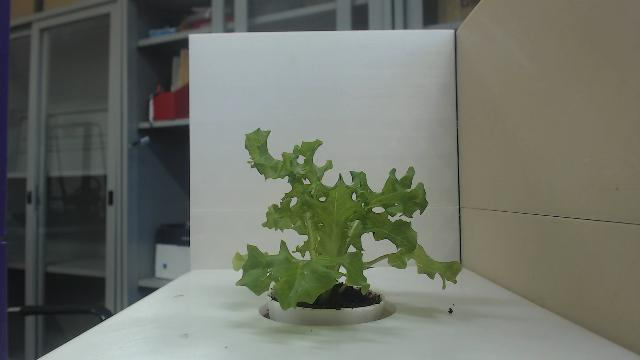Vegetative Stage: (232, 127, 464, 311)
